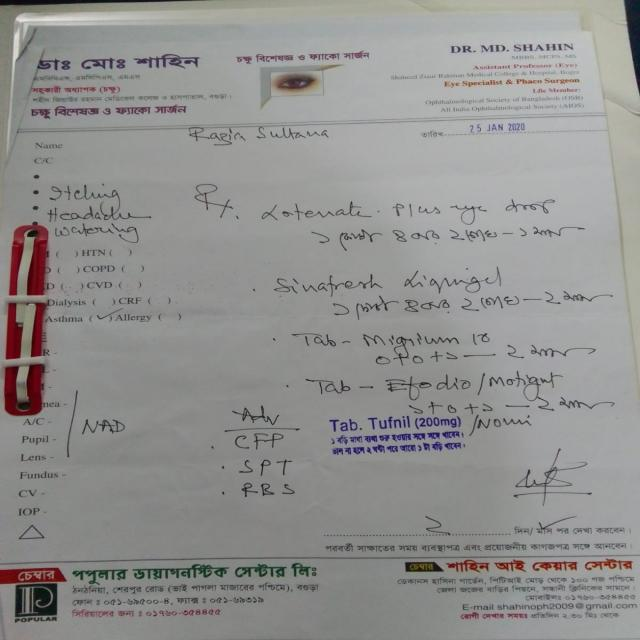Efodio: (382, 373, 479, 400)
Lotenate Plus: (256, 201, 447, 223)
Migrium: (355, 329, 466, 352)
Motigut: (483, 371, 564, 390)
Sinafresh Liquigel: (267, 270, 510, 296)
